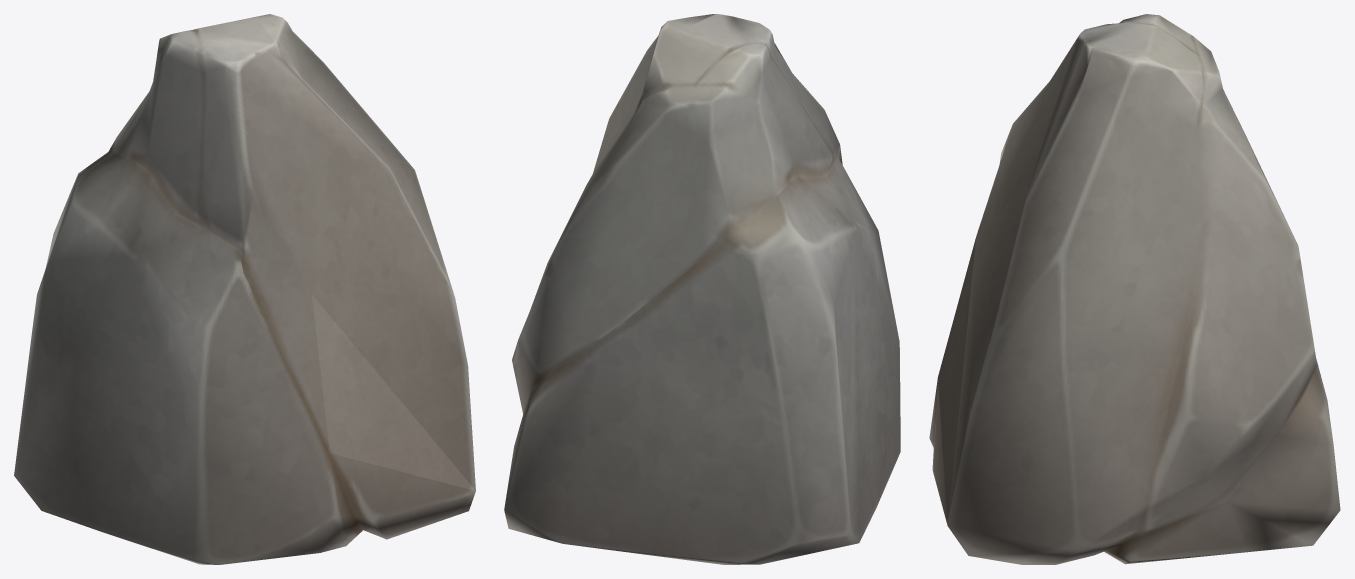
File: rocks_05.glb
The picture shows the model from 3 angles, left to right: view 1: azimuth 30°, elevation 25°; view 2: azimuth 150°, elevation 25°; view 3: azimuth 270°, elevation 25°; orthographic projection. The views are drawn at different scales.
Parts seen in each view (by area): view 1: SM_Rocks_05_RocksStylized_M_0; view 2: SM_Rocks_05_RocksStylized_M_0; view 3: SM_Rocks_05_RocksStylized_M_0.
Boxes of the visible parts, bbox=[...] form: SM_Rocks_05_RocksStylized_M_0: bbox=[14, 14, 475, 564]; SM_Rocks_05_RocksStylized_M_0: bbox=[504, 14, 900, 564]; SM_Rocks_05_RocksStylized_M_0: bbox=[929, 14, 1340, 564].
Bounding box in the file's own units: 9.02 × 11.07 × 9.03.
Materials: 1 (1 with a texture image).
